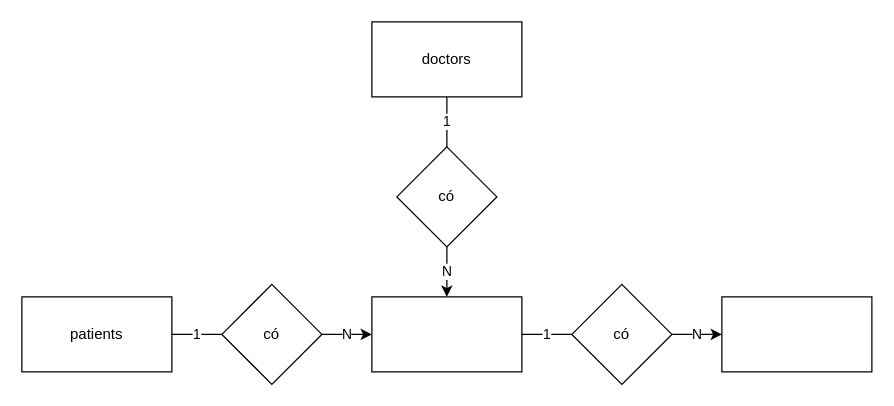
This 894x406 diagram has some shape labels left out. Here are the shapes that lost their labels. From the top down, the centre of each, then its label:
(x=446, y=334): appointments
(x=796, y=334): prescriptions
